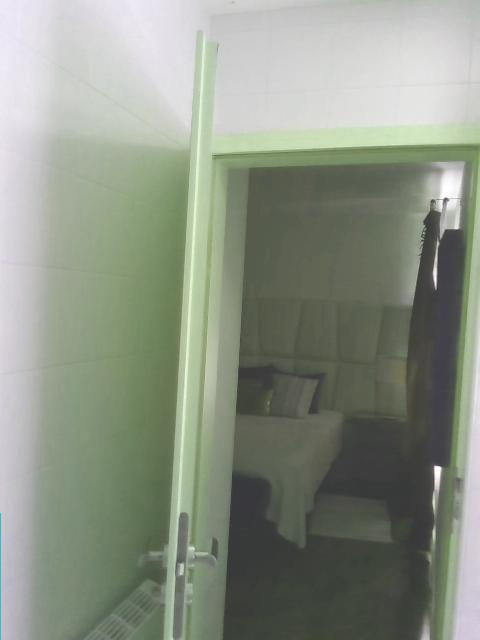open_door: (180, 124, 479, 637)
